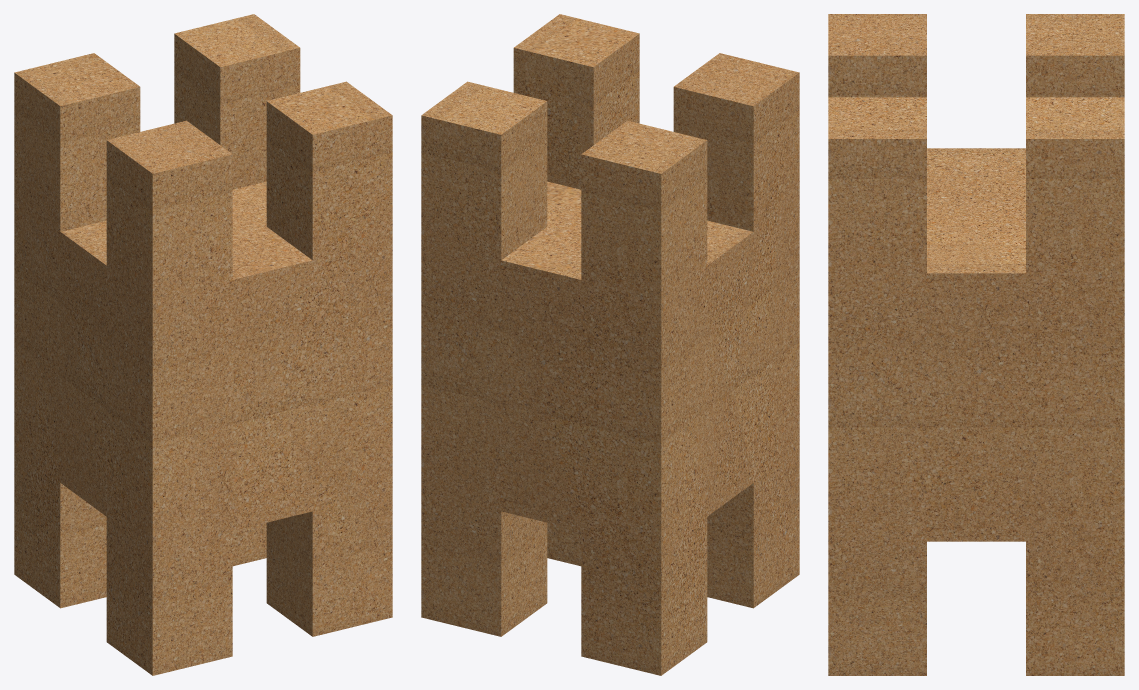
Rendered from Double.fbx.
3 renders of one model, left to right at view 1: azimuth 30°, elevation 25°; view 2: azimuth 150°, elevation 25°; view 3: azimuth 270°, elevation 25°, orthographic. The views are drawn at different scales.
Visible parts, largest first — view 1: DOUBLE1; view 2: DOUBLE1; view 3: DOUBLE1.
Boxes of the visible parts, left/top/right/bottom form: DOUBLE1: left=14, top=14, right=392, bottom=675; DOUBLE1: left=421, top=14, right=799, bottom=675; DOUBLE1: left=828, top=14, right=1124, bottom=675.
Bounding box in the file's own units: 20.03 × 40.05 × 20.03.
